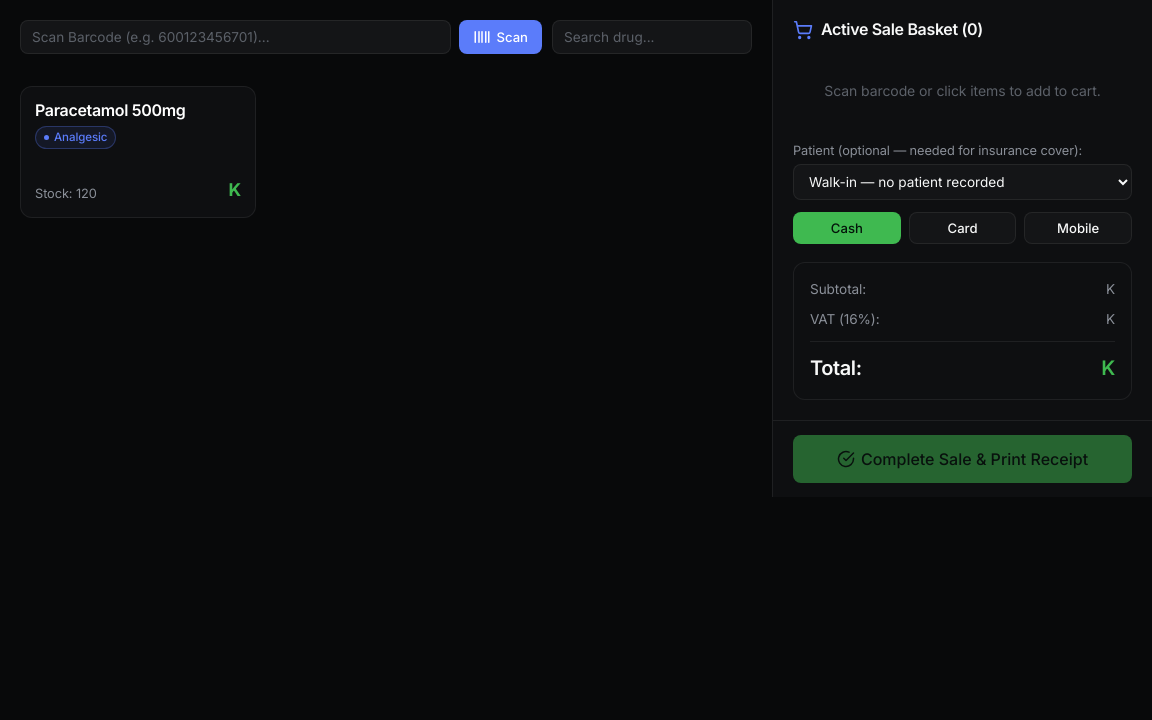
the till can apply insurance cover › reports the scheme and its rate once a covered patient is chosen
This screenshot has width=1152, height=720.
Step 1. Select "Chipego Mukimba · +260965111222" in the dropdown → {"x": 962, "y": 182}, box [793,164,1132,200]
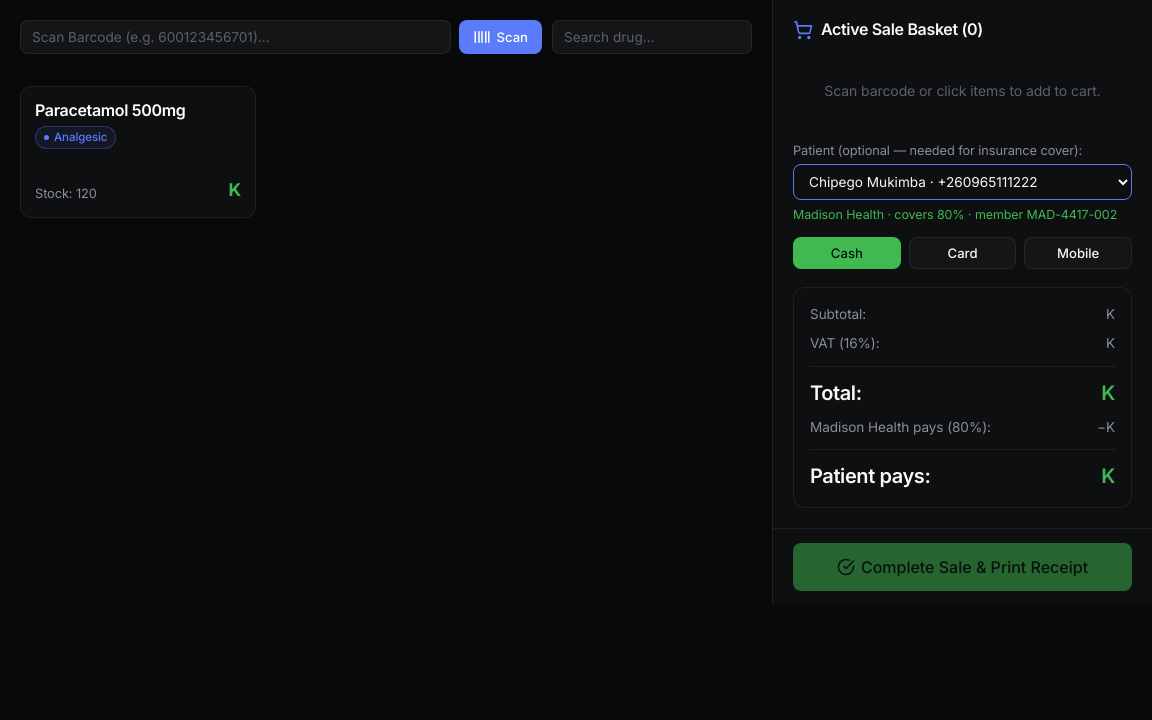
Check: the text "Madison Health · covers 80% · member MAD-4417-002" is shown, box [793,206,1132,225]
